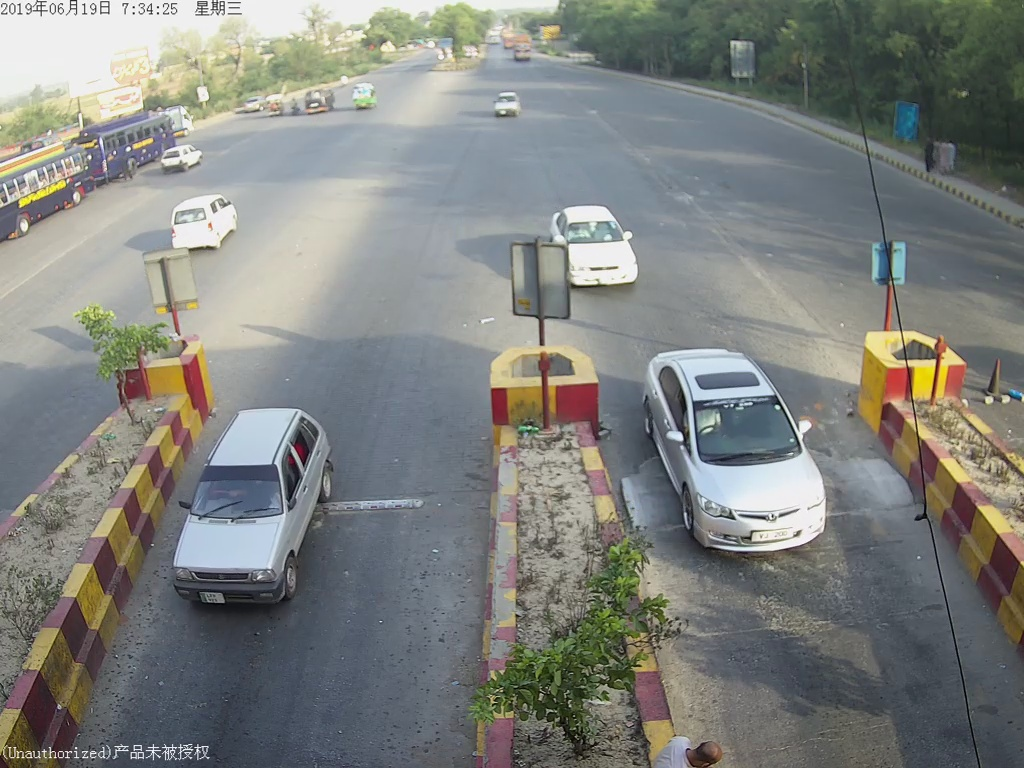Cat-1: (639, 351, 836, 554), (175, 408, 329, 610), (565, 205, 646, 291)
